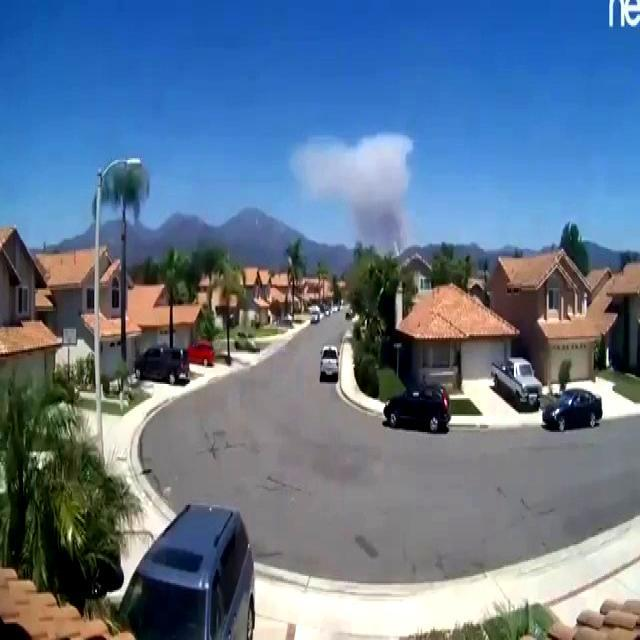Smoke: (298, 118, 408, 258)
